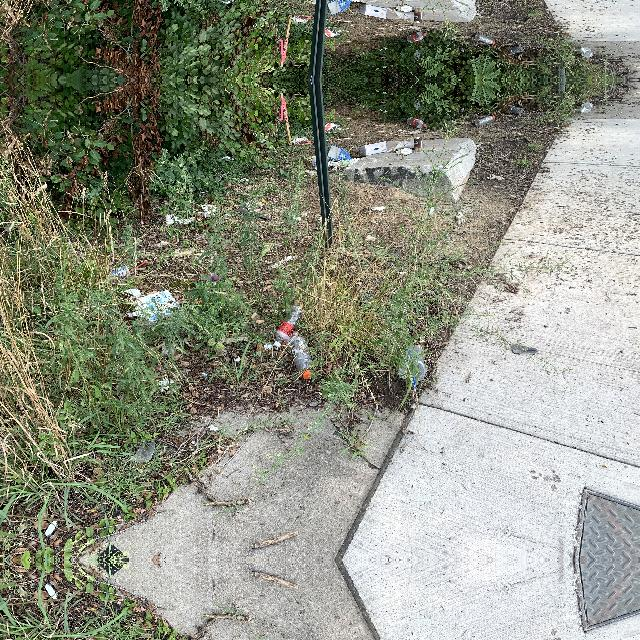Cardboard: (389, 136, 417, 152), (389, 8, 417, 24), (356, 140, 386, 154), (356, 6, 386, 20), (328, 144, 352, 160), (328, 1, 352, 16)
Coffee Cup: (580, 100, 592, 116), (580, 44, 592, 60)
Paper: (127, 286, 183, 324), (326, 156, 358, 170), (201, 204, 215, 216), (397, 148, 413, 156), (486, 173, 502, 181), (292, 136, 308, 144), (397, 4, 413, 12), (326, 0, 358, 4), (292, 16, 308, 24), (324, 121, 336, 131), (222, 153, 234, 163), (324, 29, 336, 39), (222, 0, 234, 7), (371, 206, 387, 210), (306, 140, 312, 144), (306, 16, 312, 20)
Plastic: (270, 302, 304, 346), (402, 340, 428, 388), (289, 334, 313, 378), (130, 434, 156, 466), (122, 256, 148, 280), (270, 252, 296, 266), (194, 272, 222, 284), (110, 266, 132, 280), (474, 114, 496, 126), (474, 34, 496, 46), (406, 115, 426, 128), (406, 32, 426, 44), (505, 104, 523, 115), (505, 46, 523, 56), (426, 204, 436, 216), (336, 136, 356, 140), (372, 128, 391, 132), (372, 28, 391, 32), (336, 21, 356, 24), (388, 132, 400, 136), (388, 24, 400, 28)
